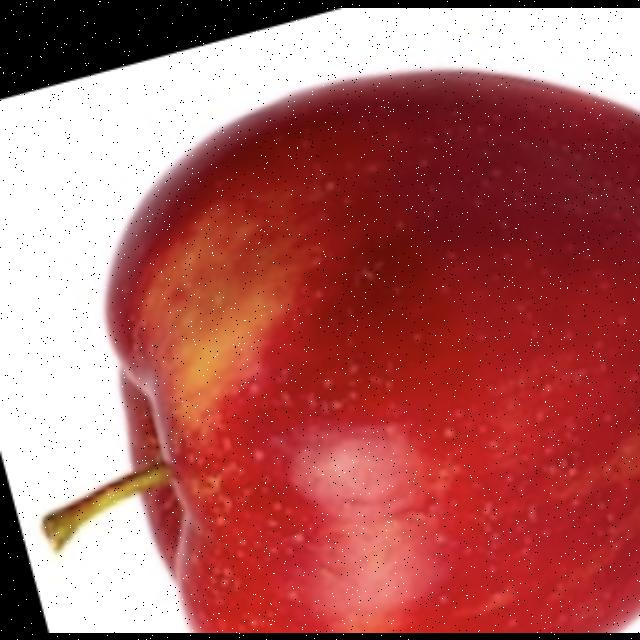Apel Segar: (105, 68, 640, 633)
